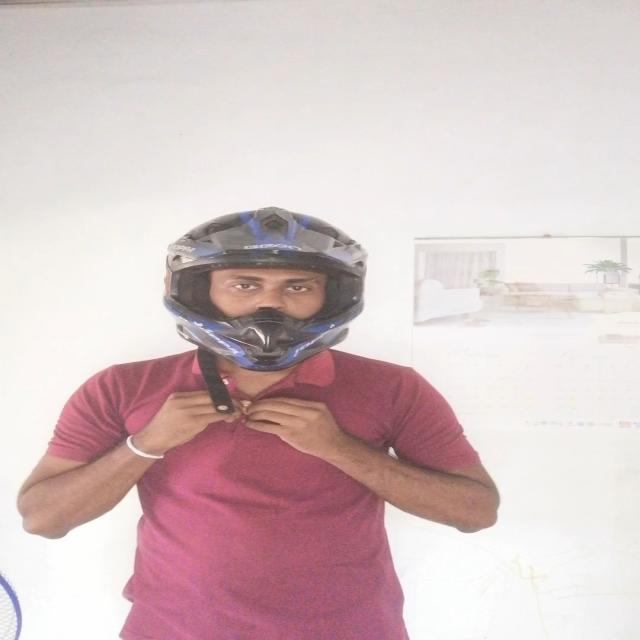Helmet_Wearer: (161, 198, 372, 394)
Person: (20, 206, 512, 640)
